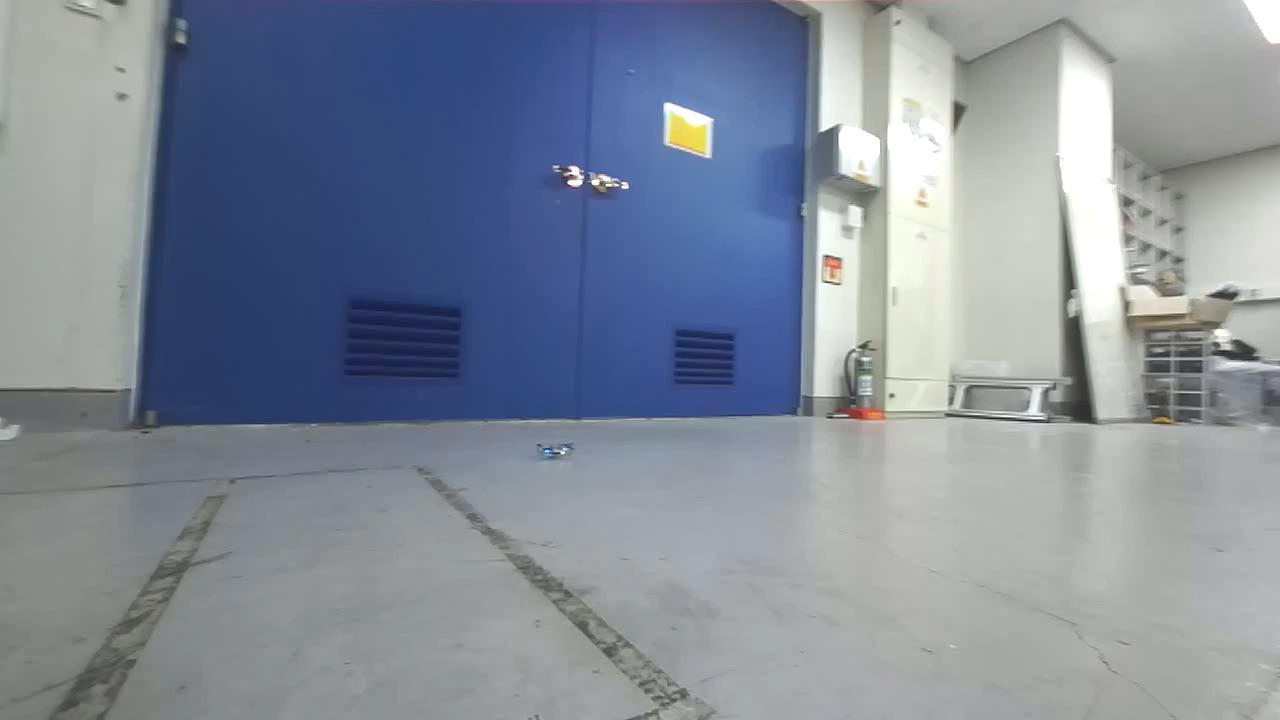crazyflie: (529, 435, 579, 465)
